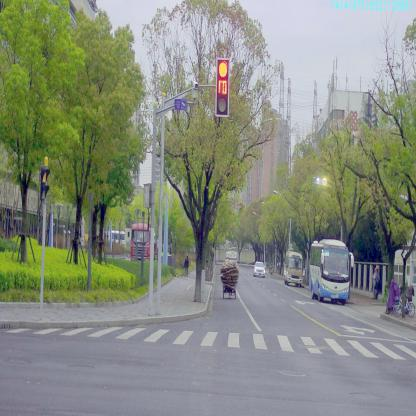traffic-light: (216, 58, 229, 116)
